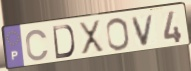4: (162, 8, 184, 44)
C: (24, 28, 50, 63)
D: (51, 24, 77, 61)
O: (105, 17, 131, 52)
V: (131, 13, 157, 48)
X: (78, 19, 106, 56)
